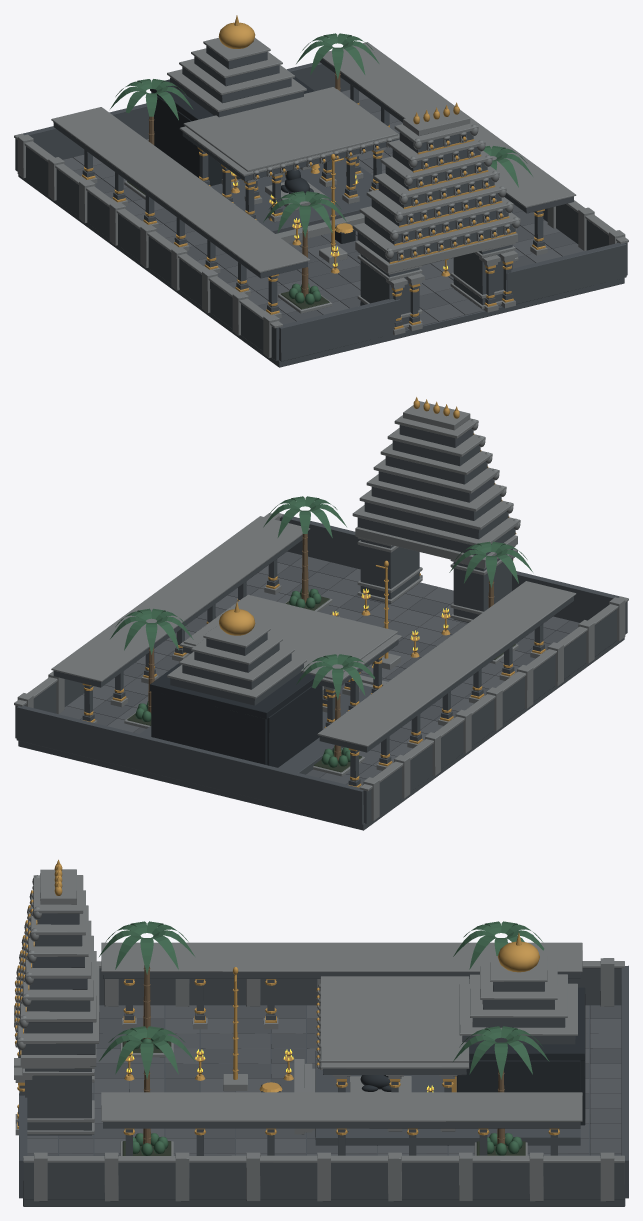
The model's file is sri-shivan-alayam-mobile.glb.
3 renders of one model, top to bottom at view 1: azimuth 30°, elevation 25°; view 2: azimuth 150°, elevation 25°; view 3: azimuth 270°, elevation 25°, orthographic. The views are drawn at different scales.
Visible parts, largest first — view 1: Temple_Architecture_Detail_Mesh, Gopuram_Main, Courtyard_Detail_Mesh, Mandapam_Detail_Mesh, Sanctum_Detail_Mesh, Vegetation_Detail_Mesh, Nandi_Main, Mandapam_Pillar.006, Corridor_Pillar.006; view 2: Temple_Architecture_Detail_Mesh, Gopuram_Main, Courtyard_Detail_Mesh, Sanctum_Detail_Mesh, Vegetation_Detail_Mesh, Mandapam_Detail_Mesh; view 3: Temple_Architecture_Detail_Mesh, Courtyard_Detail_Mesh, Gopuram_Main, Sanctum_Detail_Mesh, Mandapam_Detail_Mesh, Vegetation_Detail_Mesh, Nandi_Main, Corridor_Pillar.001, Corridor_Pillar, Pillar_Master.004.
Part boxes in pixels (x1,y1,x2,y2): Temple_Architecture_Detail_Mesh: [14, 42, 628, 361]; Gopuram_Main: [352, 102, 520, 335]; Courtyard_Detail_Mesh: [18, 90, 624, 367]; Mandapam_Detail_Mesh: [179, 87, 399, 181]; Sanctum_Detail_Mesh: [150, 15, 314, 185]; Vegetation_Detail_Mesh: [110, 33, 532, 313]; Nandi_Main: [265, 169, 328, 210]; Mandapam_Pillar.006: [342, 154, 359, 203]; Corridor_Pillar.006: [530, 209, 547, 255]; Temple_Architecture_Detail_Mesh: [14, 513, 628, 824]; Gopuram_Main: [352, 397, 520, 622]; Courtyard_Detail_Mesh: [18, 551, 624, 830]; Sanctum_Detail_Mesh: [150, 601, 322, 767]; Vegetation_Detail_Mesh: [110, 496, 532, 776]; Mandapam_Detail_Mesh: [179, 594, 401, 688]; Temple_Architecture_Detail_Mesh: [19, 942, 628, 1201]; Courtyard_Detail_Mesh: [23, 1005, 625, 1206]; Gopuram_Main: [14, 859, 99, 1135]; Sanctum_Detail_Mesh: [451, 932, 585, 1125]; Mandapam_Detail_Mesh: [316, 976, 469, 1075]; Vegetation_Detail_Mesh: [99, 921, 549, 1155]; Nandi_Main: [350, 1075, 411, 1092]; Corridor_Pillar.001: [263, 979, 278, 1029]; Corridor_Pillar: [192, 979, 207, 1029]; Pillar_Master.004: [122, 979, 136, 1029].
Bounding box in the file's own units: 26.8 × 14.93 × 34.73.
